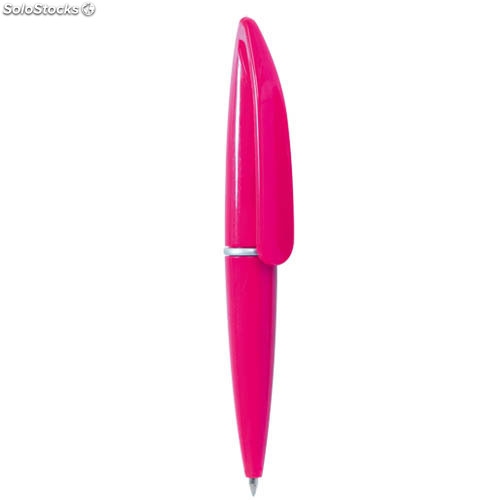Boligrafo: (221, 11, 298, 500)
